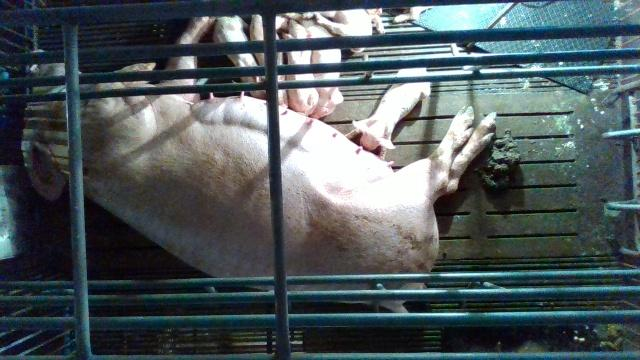piglet: (352, 70, 431, 151), (306, 22, 347, 131), (250, 12, 292, 110), (214, 17, 264, 96), (282, 18, 318, 118), (315, 5, 392, 49)
sow-sleep-lactate: (21, 16, 498, 314)
